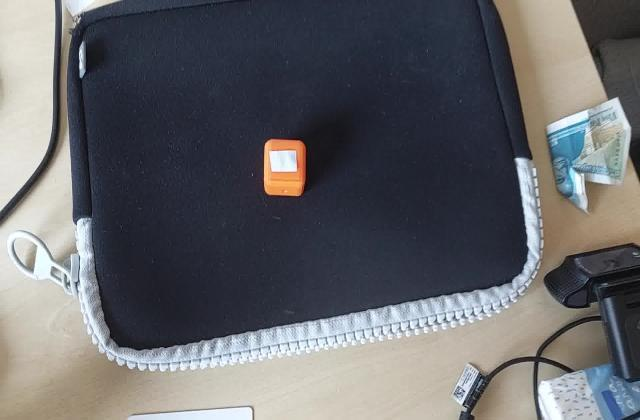sticker: (261, 139, 308, 199)
white: (267, 149, 300, 175)
